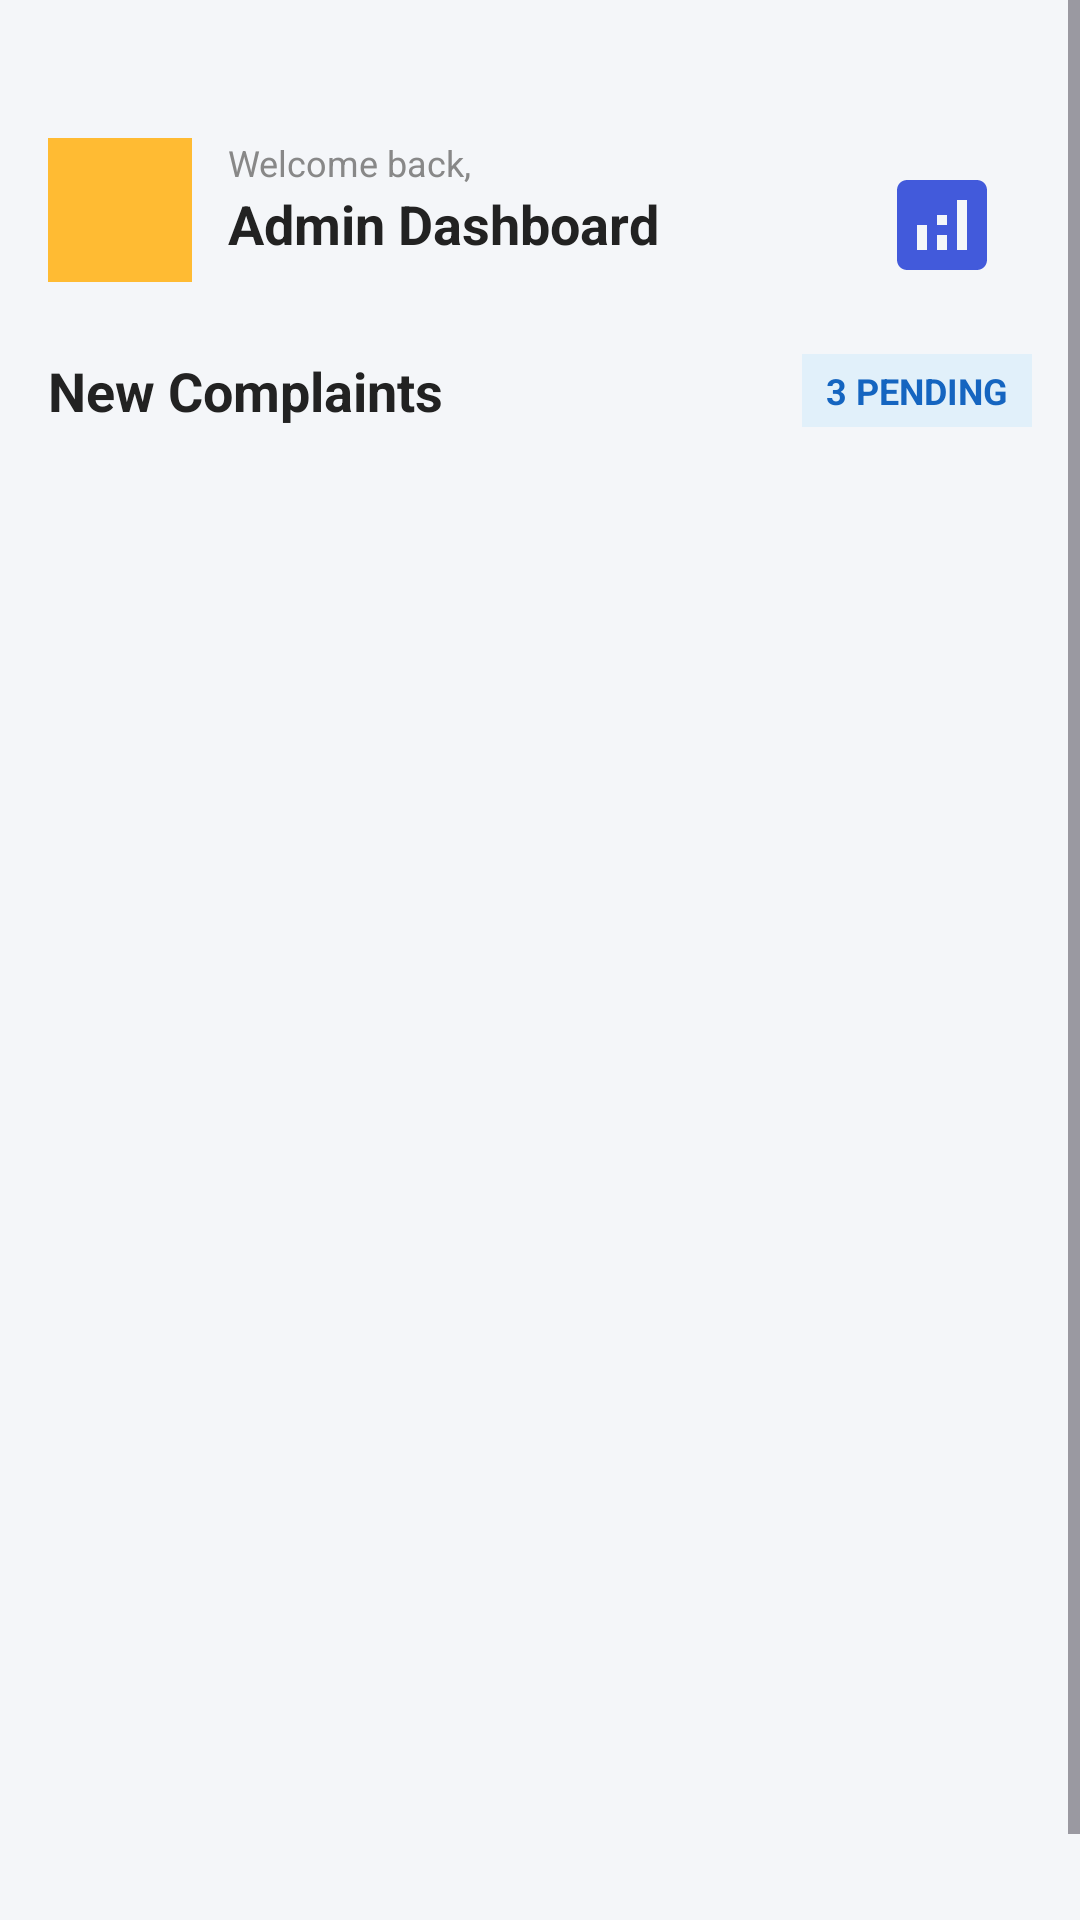

Named icons in this screenshot (1080px x 1920px) and their bounding boxes, (left=x1, top=y1, right=x2, bottom=y2):
analytics: (left=897, top=180, right=987, bottom=270)
